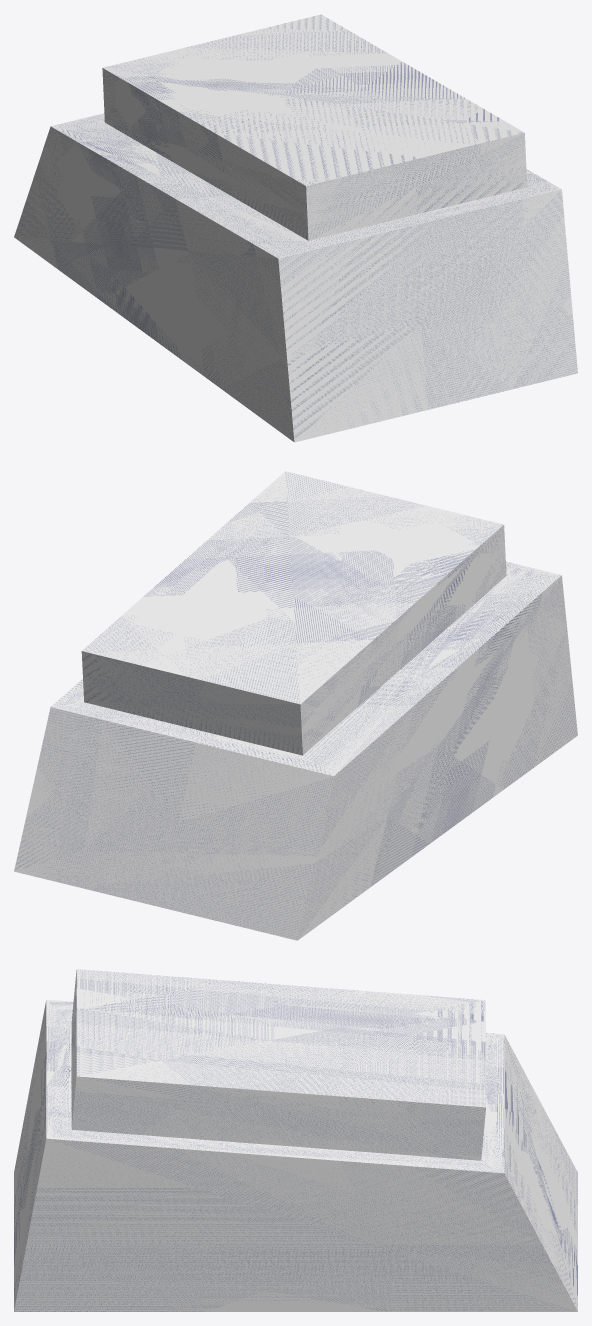
Rendered from cinema.dae.
3 views of the same model, one above another, from view 1: azimuth 30°, elevation 25°; view 2: azimuth 150°, elevation 25°; view 3: azimuth 270°, elevation 25° (orthographic).
Parts seen in each view (by area): view 1: Building_HUGE_ (×2); view 2: Building_HUGE_ (×2); view 3: Building_HUGE_ (×2).
Boxes of the visible parts, bbox=[...] form: Building_HUGE_ (×2): bbox=[14, 14, 577, 442]; Building_HUGE_ (×2): bbox=[14, 471, 577, 940]; Building_HUGE_ (×2): bbox=[14, 969, 577, 1311].
Size of the model in its own units: 2375 by 4068 by 1787.
